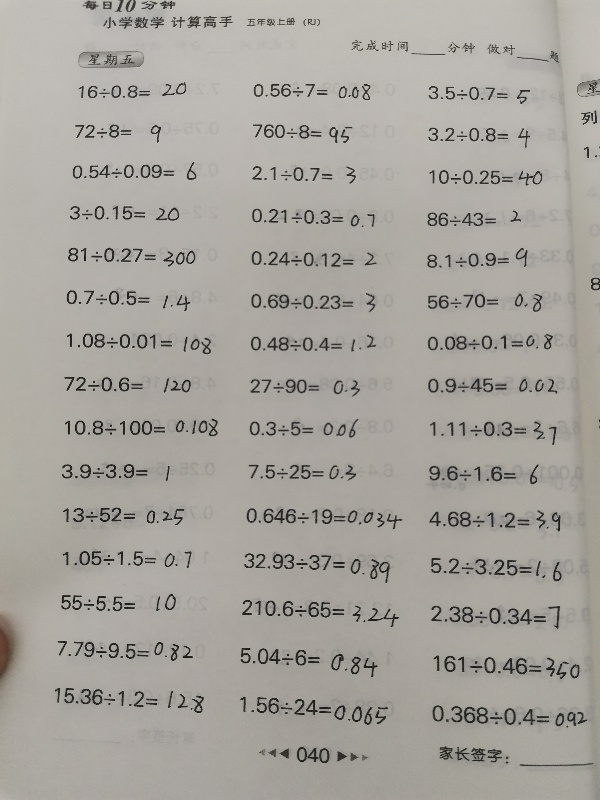equation: (430, 650, 587, 686), (239, 596, 406, 629), (236, 695, 394, 729), (428, 703, 594, 734), (241, 549, 393, 579), (50, 684, 207, 711), (55, 371, 196, 401), (428, 602, 564, 633), (61, 415, 222, 441), (242, 504, 405, 529), (236, 646, 381, 674), (425, 414, 560, 444), (425, 504, 564, 532), (54, 636, 196, 663), (63, 330, 215, 355), (426, 555, 565, 582), (242, 373, 370, 402), (423, 289, 551, 318), (58, 546, 195, 571), (63, 244, 199, 269), (69, 159, 201, 184), (57, 591, 188, 616), (248, 162, 367, 189), (59, 504, 187, 529), (425, 461, 543, 488), (59, 460, 185, 485), (421, 205, 537, 232), (424, 374, 560, 397), (250, 80, 375, 105), (423, 331, 556, 354), (247, 247, 380, 270), (246, 416, 362, 442), (247, 206, 378, 229), (69, 116, 172, 145), (422, 244, 531, 271), (424, 123, 533, 150), (246, 332, 379, 354), (425, 166, 546, 189), (66, 201, 183, 224), (248, 120, 355, 145), (75, 79, 190, 102), (246, 461, 360, 484), (246, 290, 356, 313), (424, 82, 533, 105), (63, 286, 154, 309)
